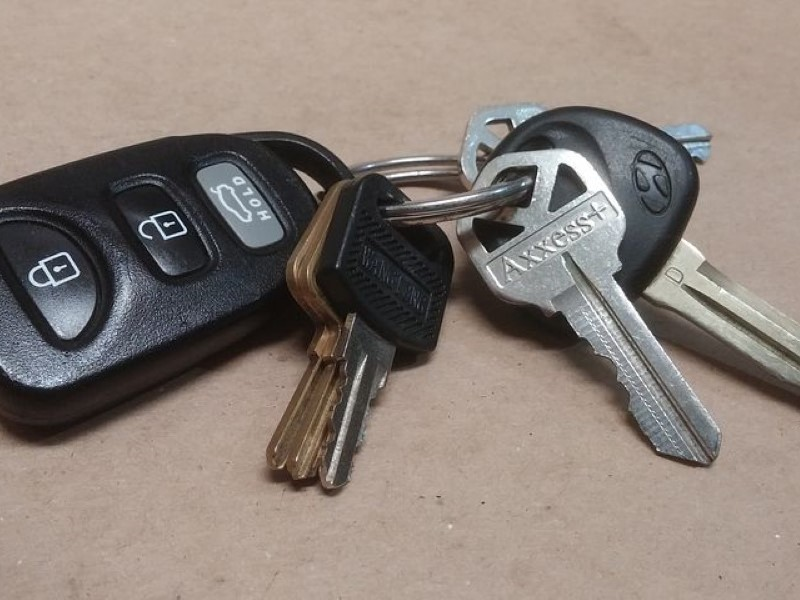carkey: (2, 120, 355, 442)
key: (453, 99, 726, 467), (258, 172, 448, 495)
